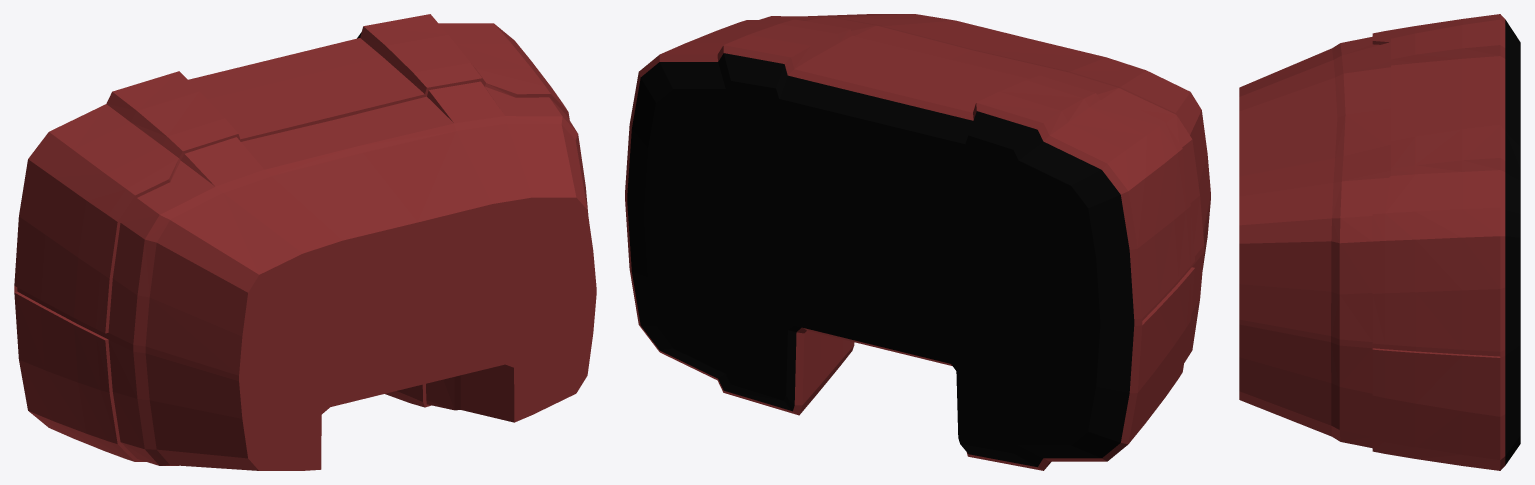
The model's file is rx78_object_084-lib.dae.
3 views of the same model, side by side, from view 1: azimuth 30°, elevation 25°; view 2: azimuth 150°, elevation 25°; view 3: azimuth 270°, elevation 25° (orthographic). The views are drawn at different scales.
Visible parts, largest first — view 1: rx78_object_084Mesh-node; view 2: rx78_object_084Mesh-node; view 3: rx78_object_084Mesh-node.
Part boxes in pixels (x1,y1,x2,y2): rx78_object_084Mesh-node: [14, 14, 596, 470]; rx78_object_084Mesh-node: [625, 14, 1210, 470]; rx78_object_084Mesh-node: [1239, 14, 1520, 470].
Size of the model in its own units: 31.31 by 20.6 by 16.65.
